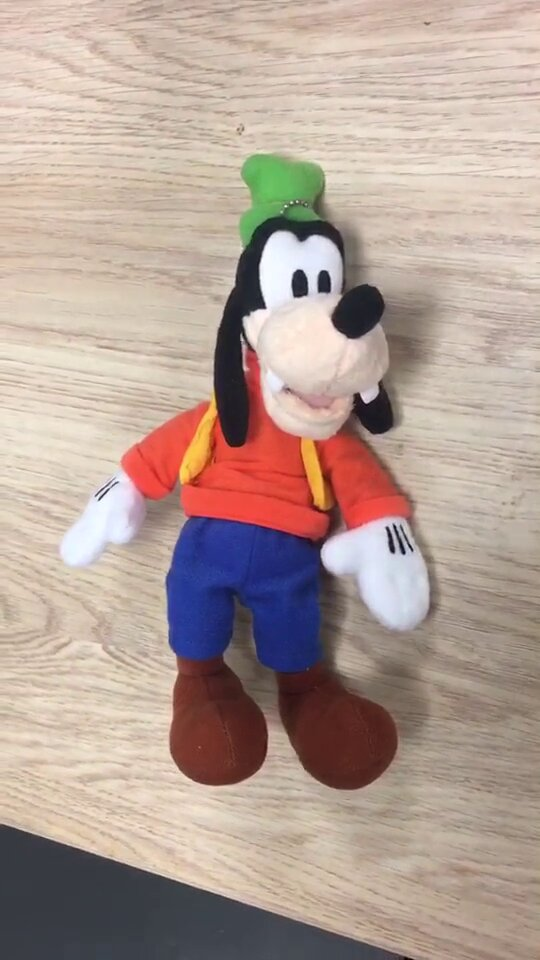goofy: (58, 148, 437, 796)
